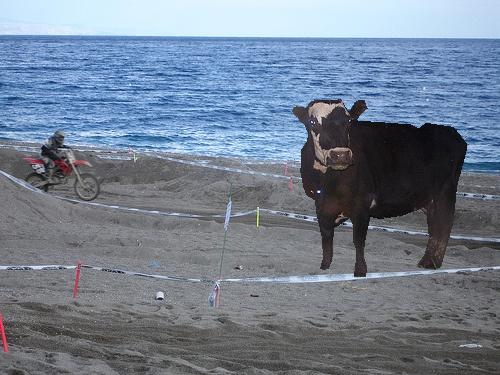tampered: (293, 100, 467, 277)
